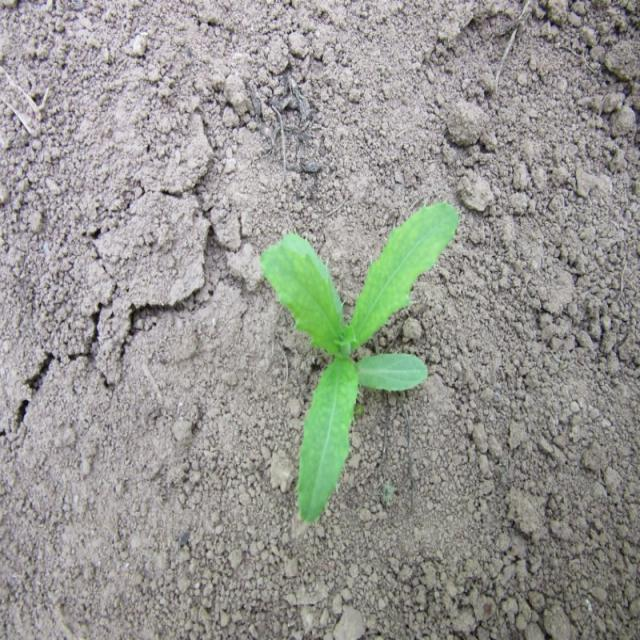field_thistle: (258, 206, 469, 529)
